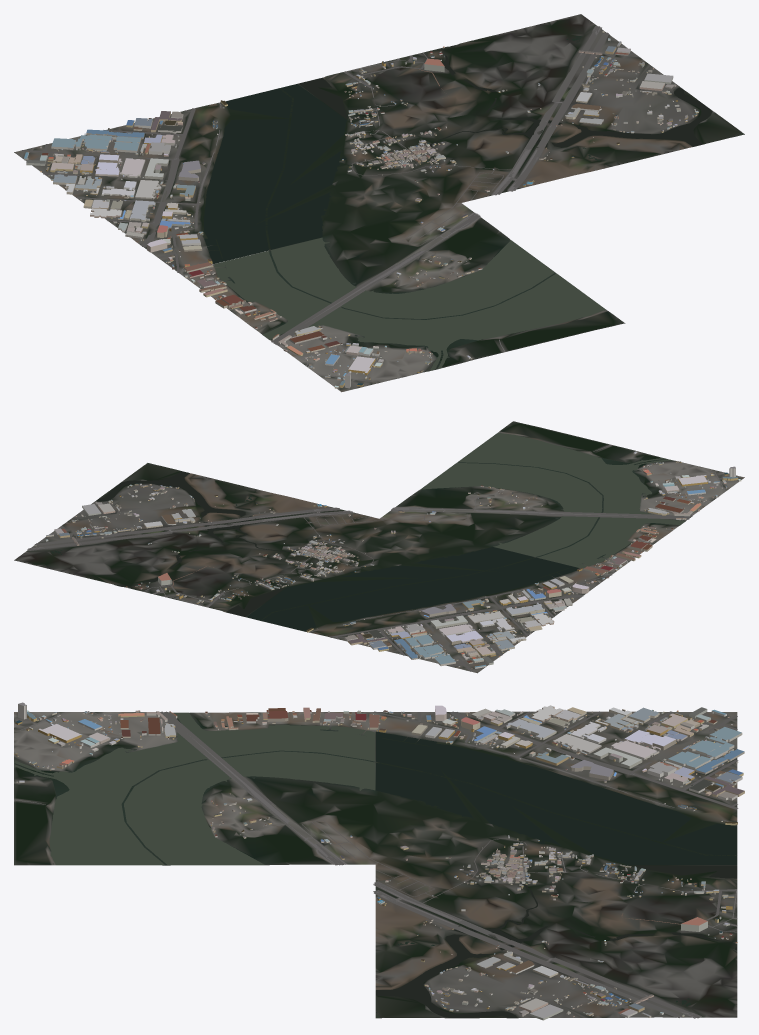
The picture shows the model from 3 angles, top to bottom: view 1: azimuth 30°, elevation 25°; view 2: azimuth 150°, elevation 25°; view 3: azimuth 270°, elevation 25°; orthographic projection. The views are drawn at different scales.
Visible parts, largest first — view 1: ground, water, buildings, roads; view 2: ground, water, buildings, roads; view 3: ground, water, buildings, roads.
Boxes of the visible parts, box(x1,y1,x2,y2) form: ground: box(14, 14, 744, 392); water: box(203, 36, 744, 370); buildings: box(24, 31, 698, 388); roads: box(21, 26, 609, 381); ground: box(14, 421, 744, 673); water: box(50, 432, 685, 631); buildings: box(34, 451, 741, 668); roads: box(27, 445, 725, 671); ground: box(14, 711, 737, 1018); water: box(14, 712, 737, 1017); buildings: box(14, 702, 744, 1020); roads: box(14, 711, 738, 1018).
Bounding box in the file's own units: 2866 × 64.03 × 2831.
